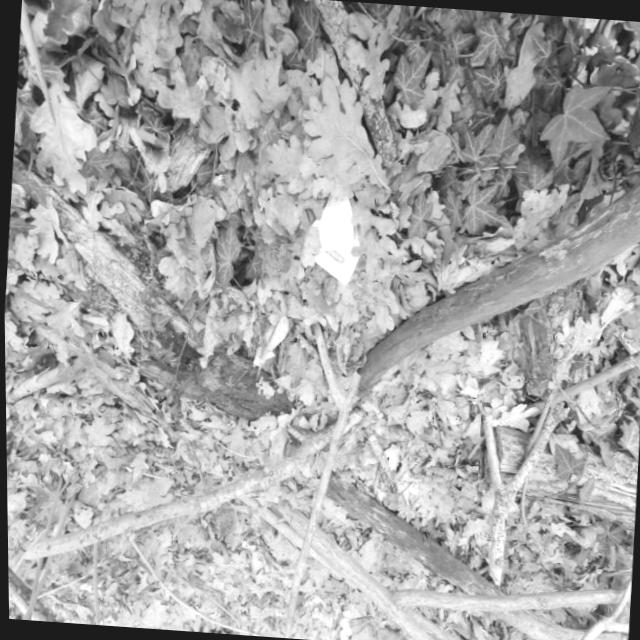Paper: (284, 190, 364, 288)
